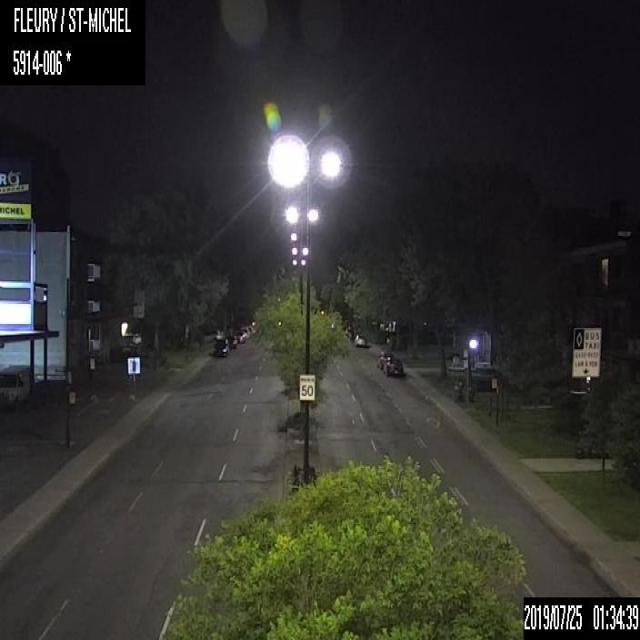vehicle: (0, 362, 34, 411), (210, 333, 229, 357), (382, 357, 402, 376), (376, 349, 393, 368), (224, 333, 237, 351), (353, 333, 369, 347), (233, 328, 246, 343)
